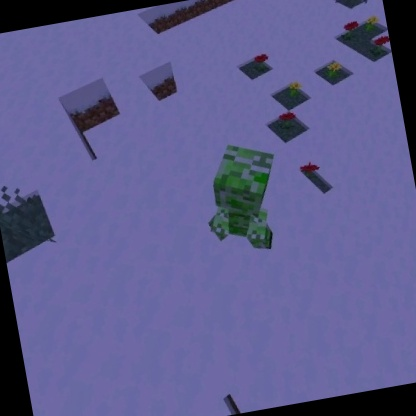creeper: (196, 134, 293, 262)
